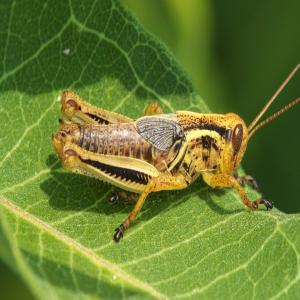locust: (46, 87, 298, 212)
